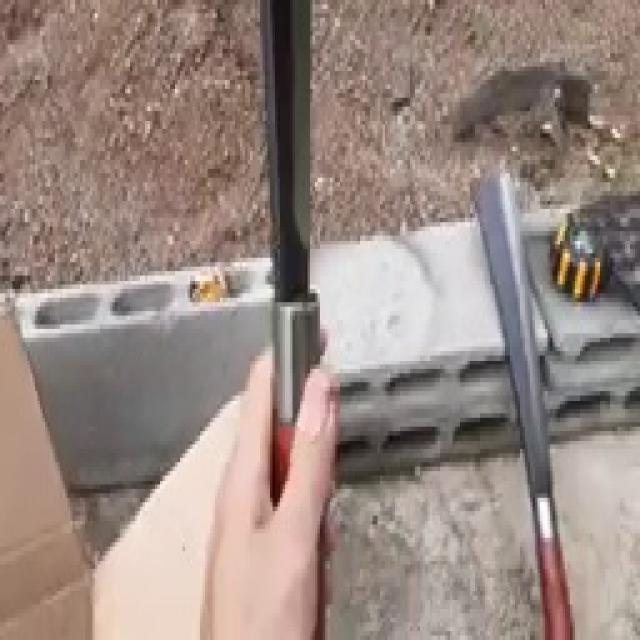eto: (468, 163, 576, 640)
